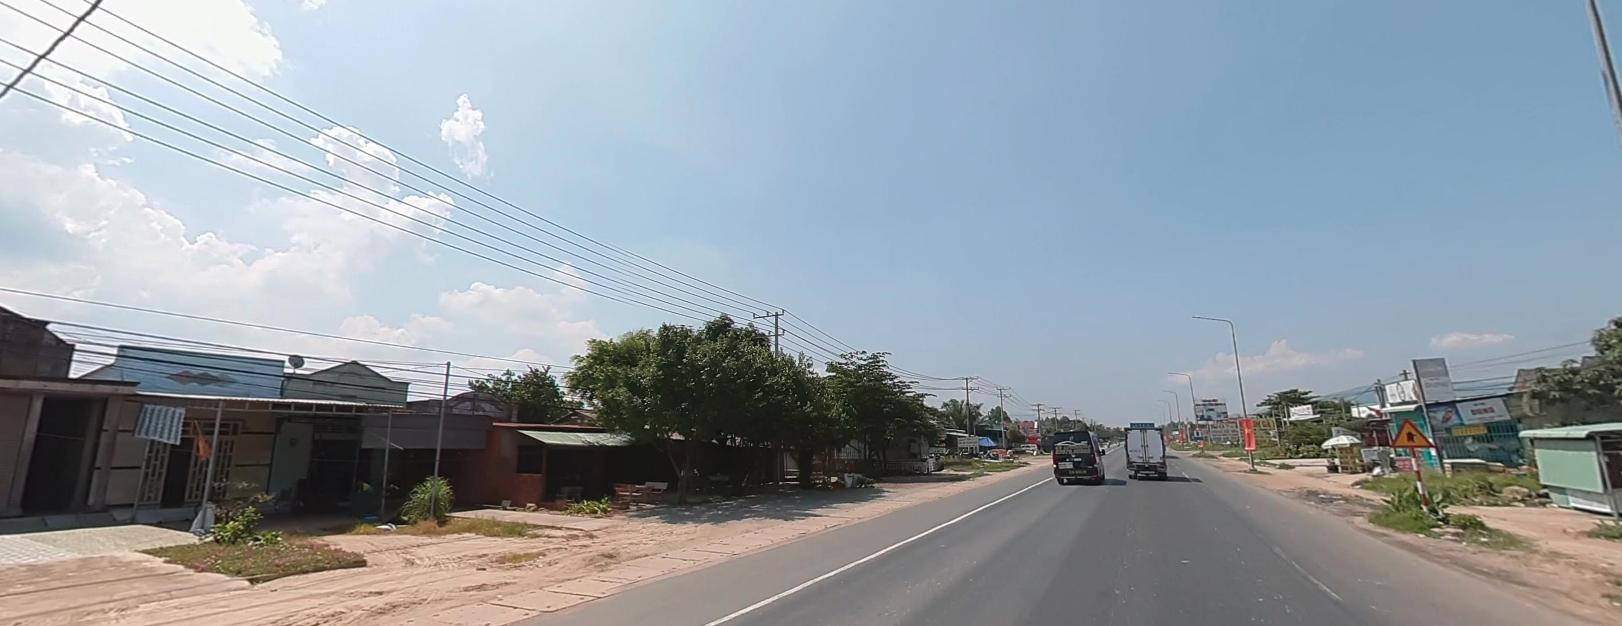Nguy hiem: (1390, 417, 1437, 447)
